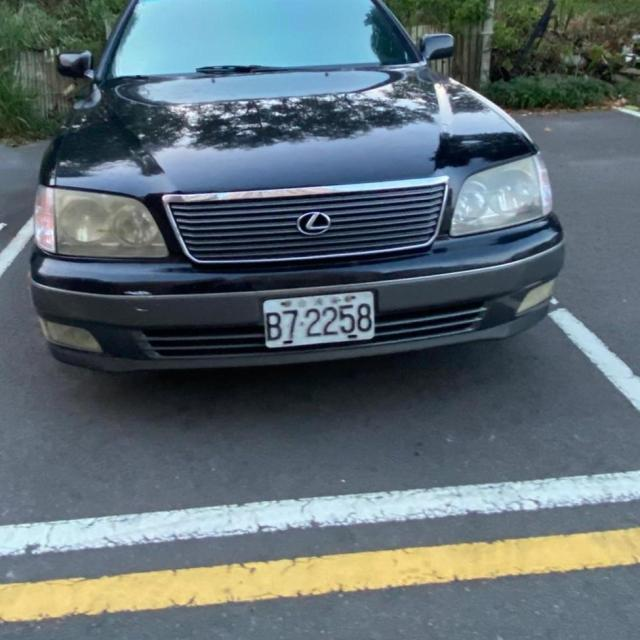W: (259, 284, 379, 355)
